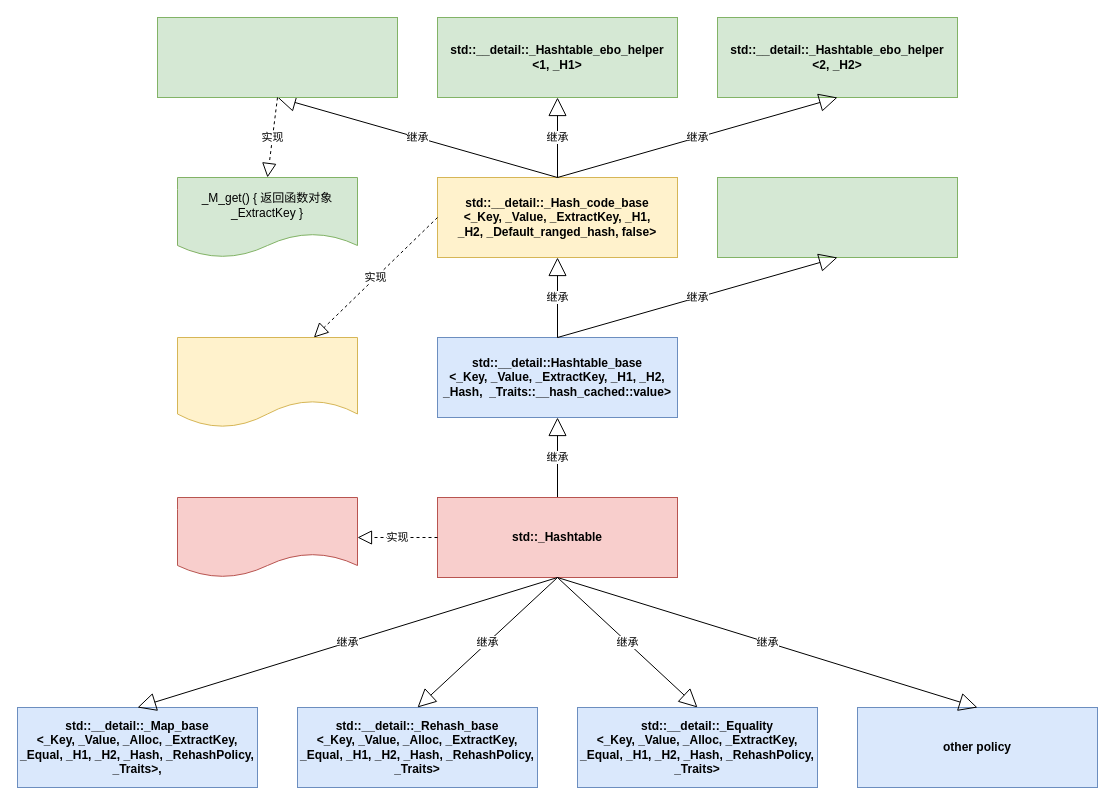
The diagram is 1115 pixels wide and 805 high, and some of its shapes have lost their labels. Here are the shapes that lost their labels. From the top down, the centre of each, then its label:
pixel 277 57: std::__detail::_Hashtable_ebo_helper <0, _ExtractKey>
pixel 837 217: std::__detail::_Hashtable_ebo_helper <0, _Equal>
pixel 267 382: _M_extract() {调用_Hashtable_ebo_helper<0, _ExtractKey>::_M_get() }
pixel 267 537: 调用_Hash_code_base::_M_extract()
